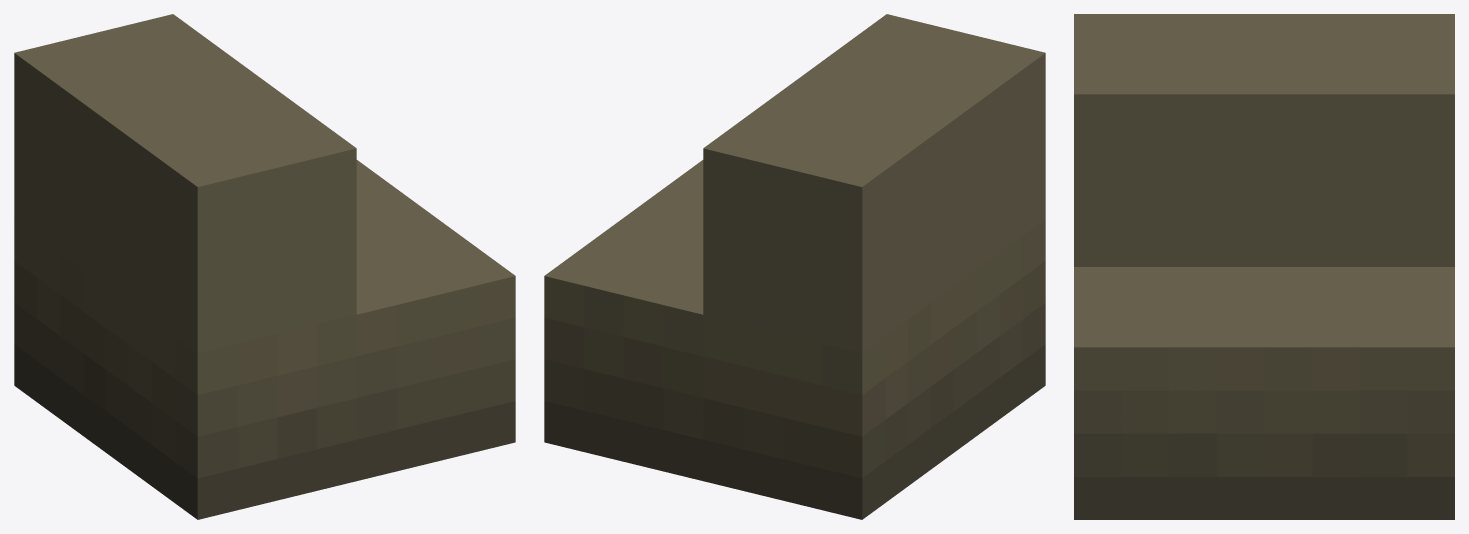
File: SteppingStool.glb
The picture shows the model from 3 angles, left to right: view 1: azimuth 30°, elevation 25°; view 2: azimuth 150°, elevation 25°; view 3: azimuth 270°, elevation 25°; orthographic projection. The views are drawn at different scales.
Visible parts, largest first — view 1: SteppingStool_Baked; view 2: SteppingStool_Baked; view 3: SteppingStool_Baked.
Part boxes in pixels (x1,y1,x2,y2): SteppingStool_Baked: (14,14,515,519); SteppingStool_Baked: (544,14,1045,519); SteppingStool_Baked: (1074,14,1454,519).
Bounding box in the file's own units: 2 × 2 × 2.
1 material, 1 textured.
